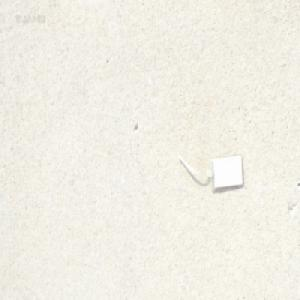LuggageTag: (173, 149, 243, 193)
